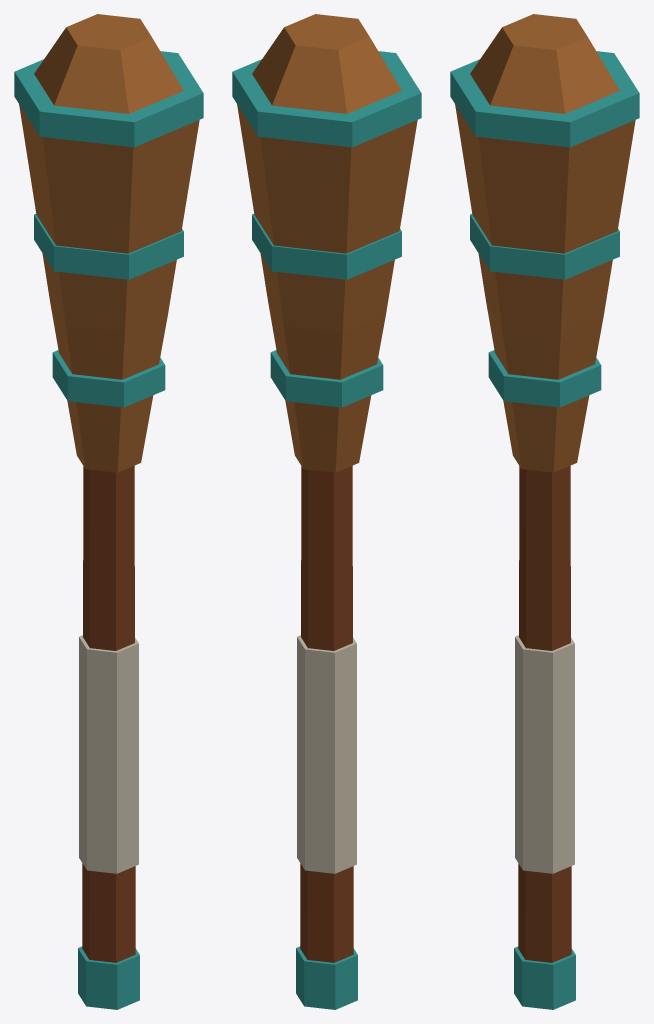
Rendered from weapon_warhammer.glb.
3 views of the same model, side by side, from view 1: azimuth 30°, elevation 25°; view 2: azimuth 150°, elevation 25°; view 3: azimuth 270°, elevation 25° (orthographic).
Visible parts, largest first — view 1: bird_weapon_warhammer; view 2: bird_weapon_warhammer; view 3: bird_weapon_warhammer.
Part boxes in pixels (left/top/right/bottom): bird_weapon_warhammer: left=14, top=14, right=203, bottom=1009; bird_weapon_warhammer: left=232, top=14, right=421, bottom=1009; bird_weapon_warhammer: left=450, top=14, right=639, bottom=1009.
Size of the model in its own units: 0.2046 by 1.15 by 0.2046.
